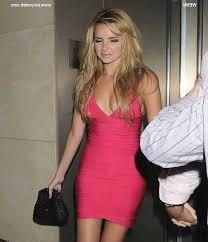Drunk: (95, 24, 121, 63)
